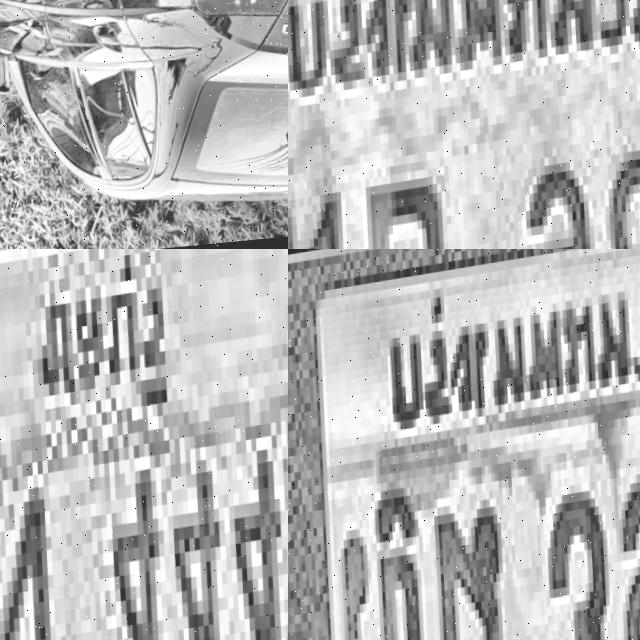license-plate: (288, 249, 640, 640), (0, 249, 288, 640), (288, 0, 640, 249)
